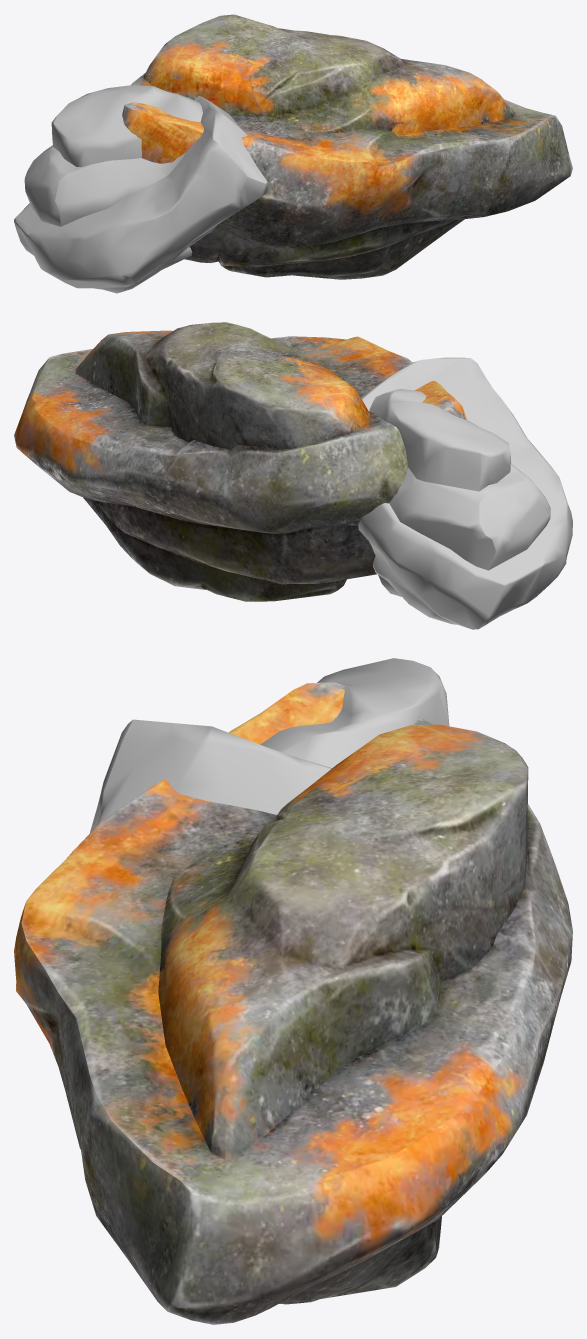
3 renders of one model, top to bottom at view 1: azimuth 30°, elevation 25°; view 2: azimuth 150°, elevation 25°; view 3: azimuth 270°, elevation 25°, orthographic. The views are drawn at different scales.
Parts seen in each view (by area): view 1: SM_Mining_Node_Medium_B_LOD0; view 2: SM_Mining_Node_Medium_B_LOD0; view 3: SM_Mining_Node_Medium_B_LOD0.
Part boxes in pixels (x1,y1,x2,y2): SM_Mining_Node_Medium_B_LOD0: (14, 14, 572, 293); SM_Mining_Node_Medium_B_LOD0: (14, 322, 572, 629); SM_Mining_Node_Medium_B_LOD0: (14, 658, 572, 1324).
Size of the model in its own units: 4.83 by 1.99 by 2.48.
